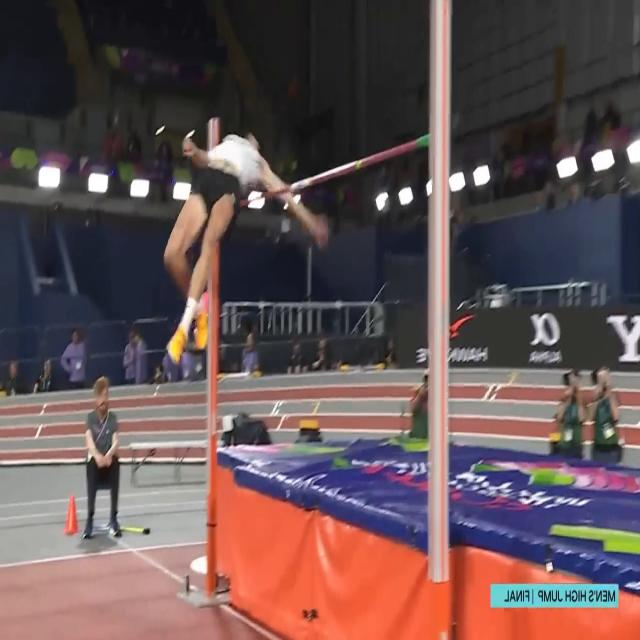jump: (165, 130, 327, 362)
